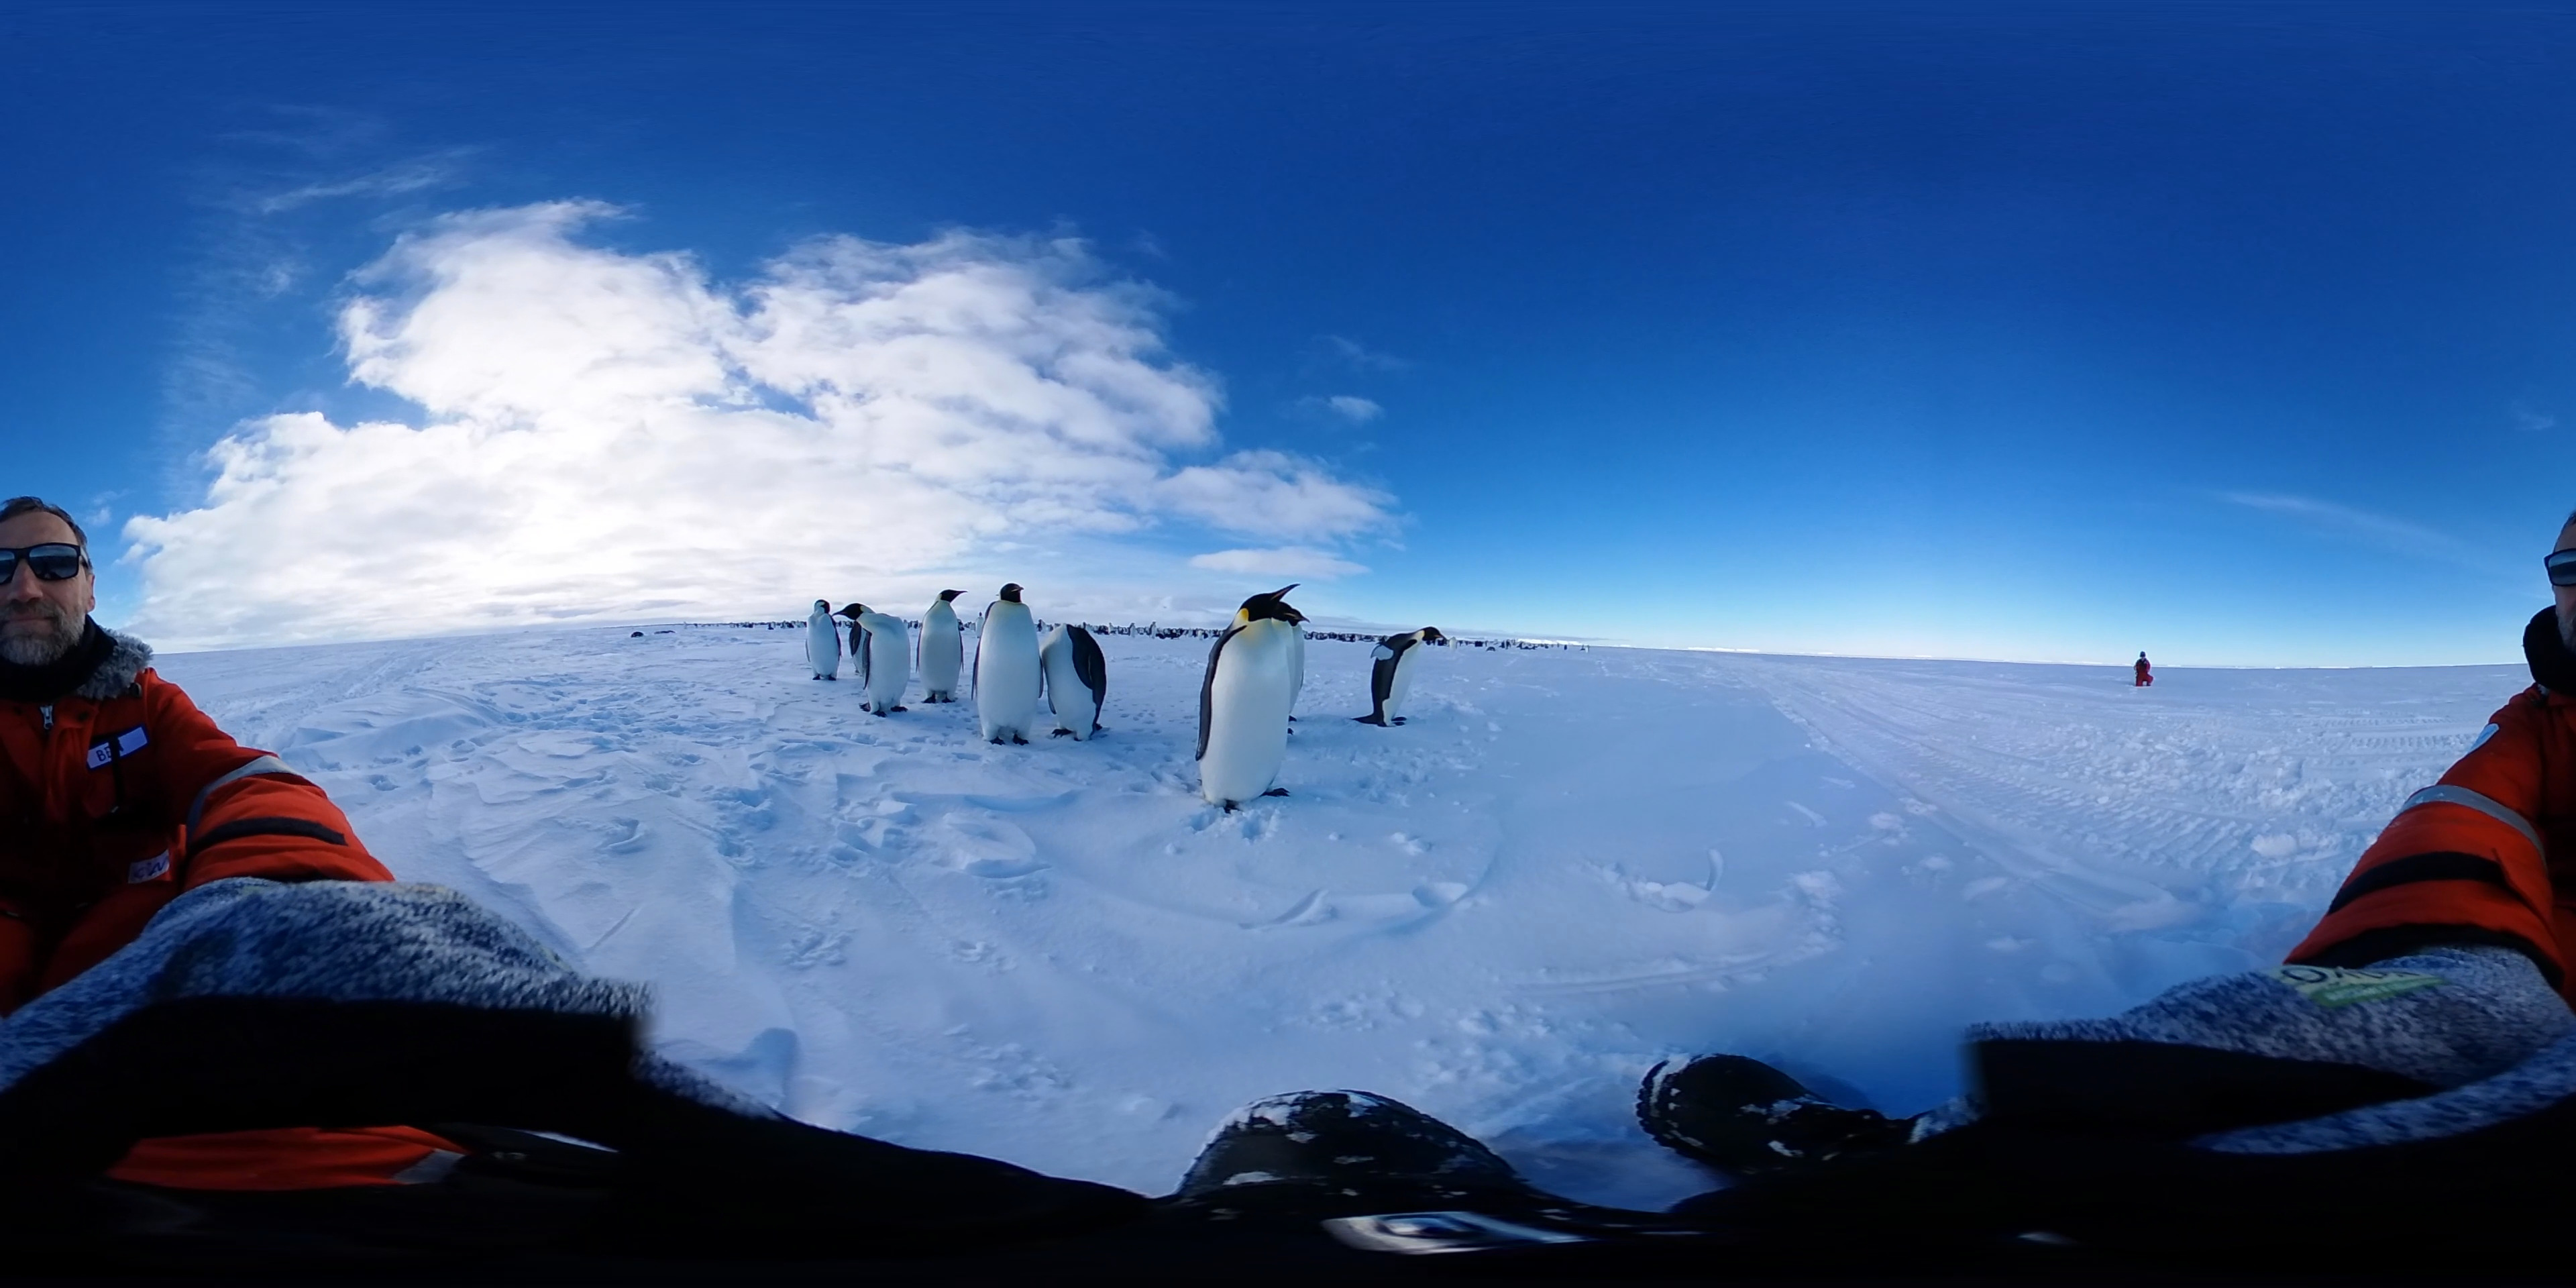adult_standing_penguin: (1191, 582, 1296, 823), (971, 577, 1038, 749), (1357, 623, 1449, 729), (831, 600, 912, 720), (1040, 614, 1111, 743), (913, 585, 966, 708), (802, 593, 843, 687)
adult_toboggan_penguin: (626, 628, 646, 639)
researcher: (0, 494, 411, 1061), (2295, 498, 2576, 1117), (2132, 646, 2155, 688)
